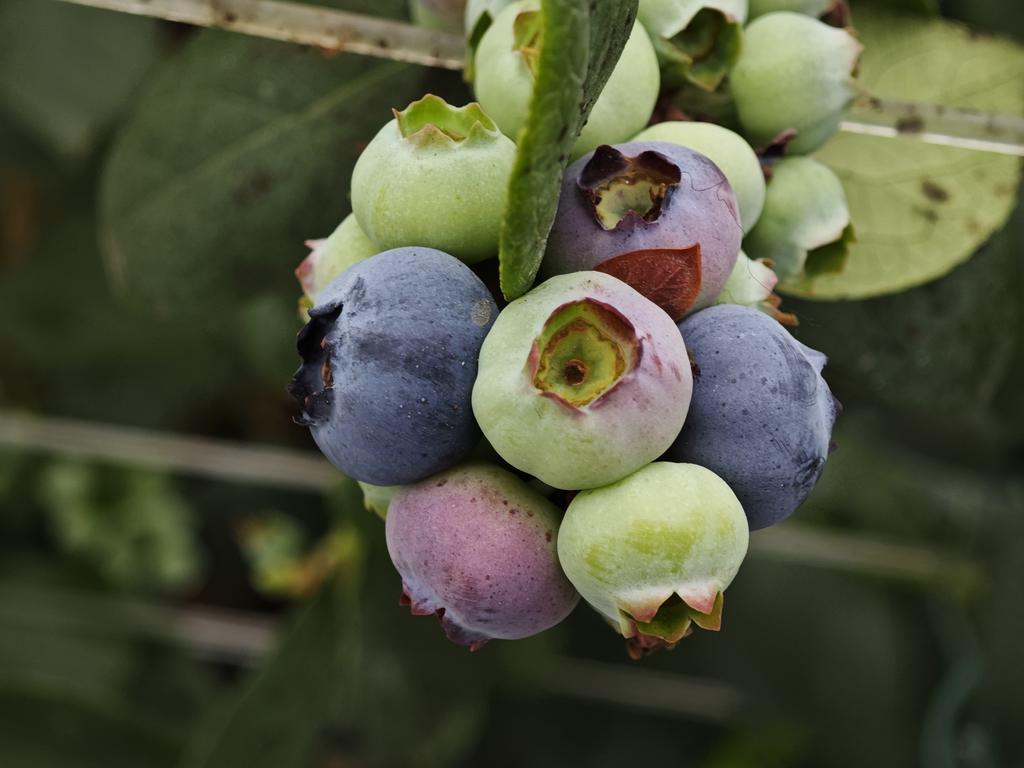RipeBlueBerry: (294, 242, 495, 489), (680, 303, 840, 537)
Semi-RipeBlueBerry: (382, 465, 578, 646), (548, 138, 748, 310)
UnripeBlueBerry: (470, 263, 697, 493), (554, 455, 753, 649)
